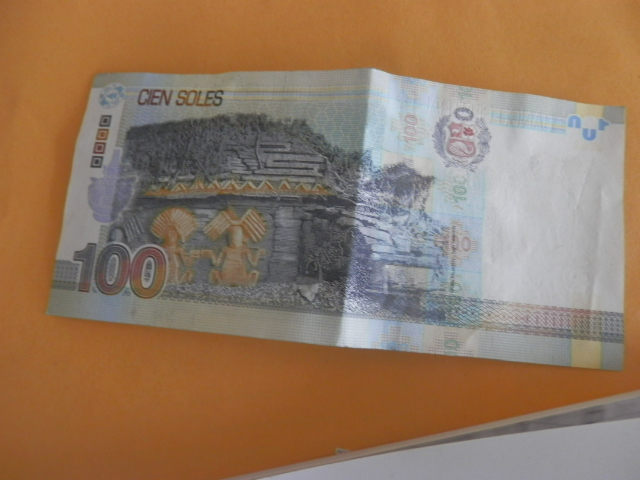B100: (50, 71, 628, 385)
